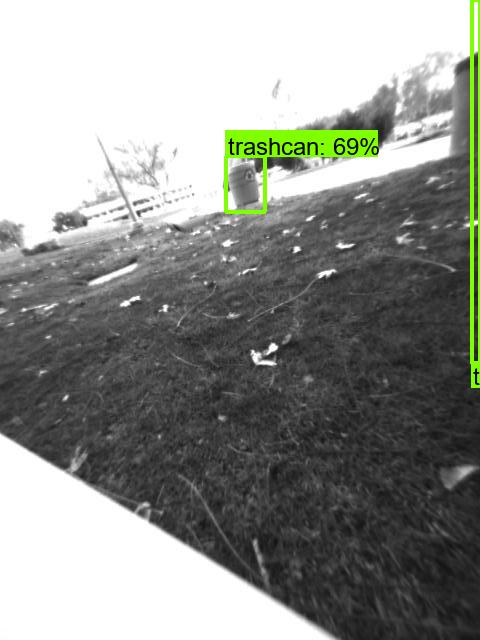trashcan: (225, 160, 263, 207)
